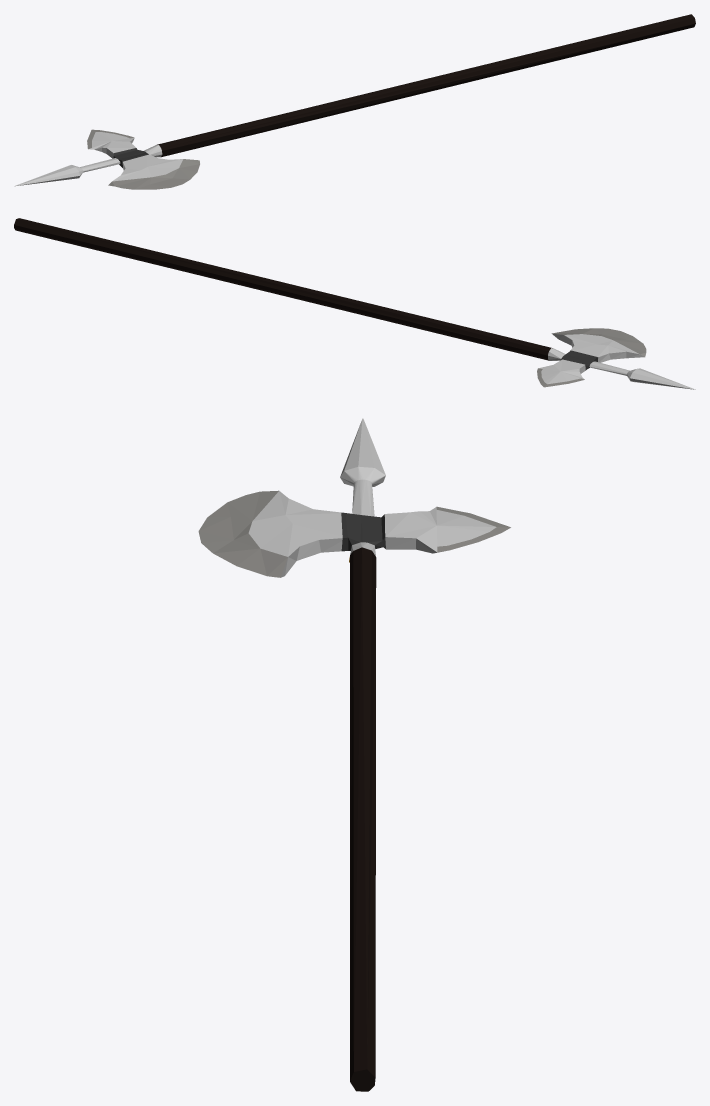
File: Model_Halabarda.fbx
3 renders of one model, top to bottom at view 1: azimuth 30°, elevation 25°; view 2: azimuth 150°, elevation 25°; view 3: azimuth 270°, elevation 25°, orthographic. The views are drawn at different scales.
Parts seen in each view (by area): view 1: Halabarda; view 2: Halabarda; view 3: Halabarda.
Part boxes in pixels (x1,y1,x2,y2): Halabarda: (14,14,695,189); Halabarda: (14,218,695,389); Halabarda: (198,418,510,1091).
Size of the model in its own units: 36.01 by 3.21 by 180.
